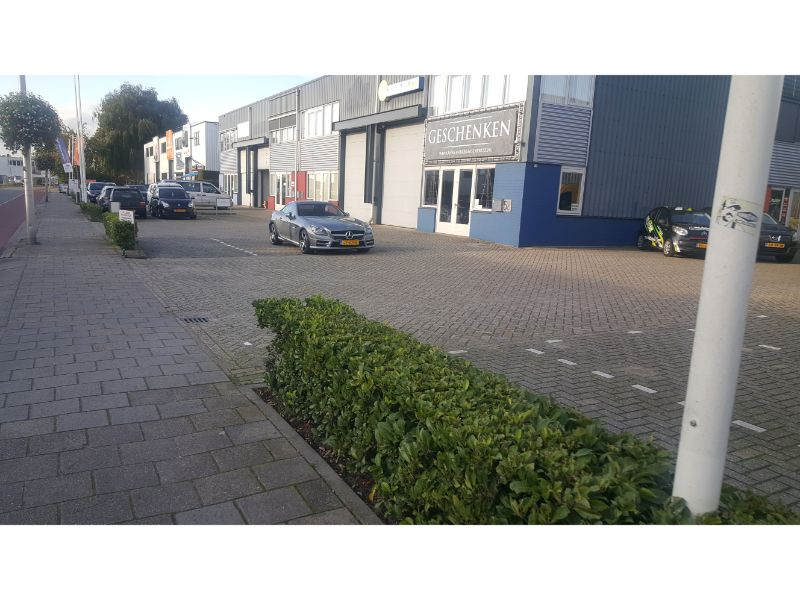kenteken: (340, 239, 359, 245)
